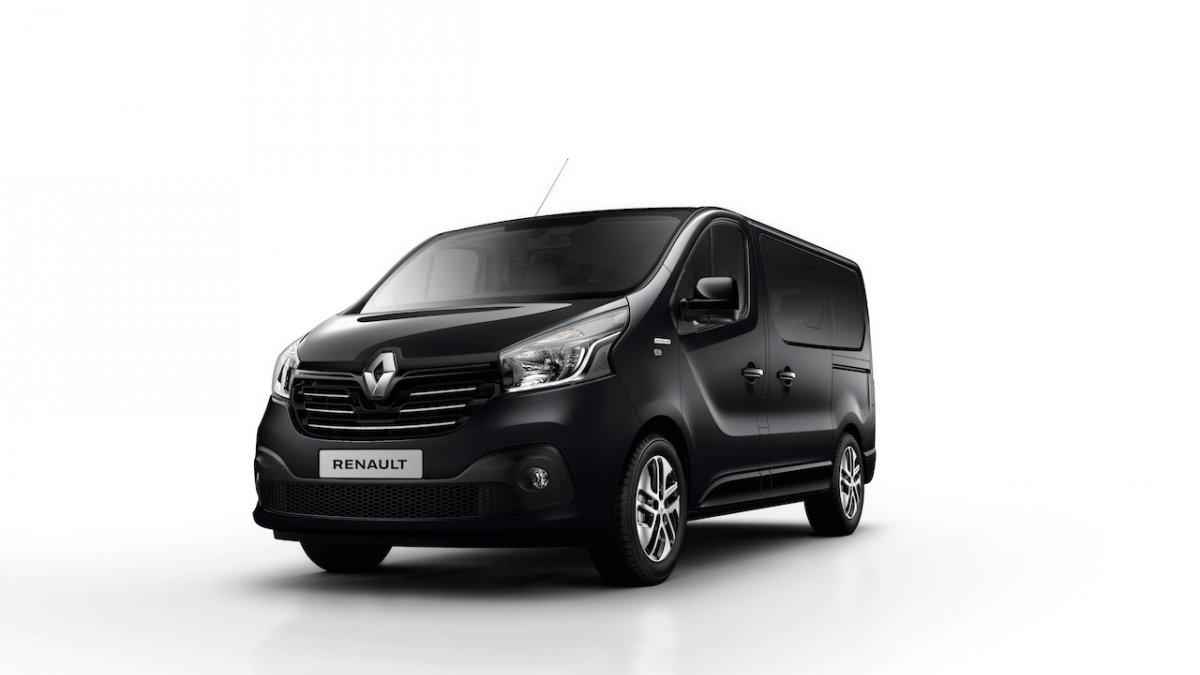van: (251, 204, 877, 588)
